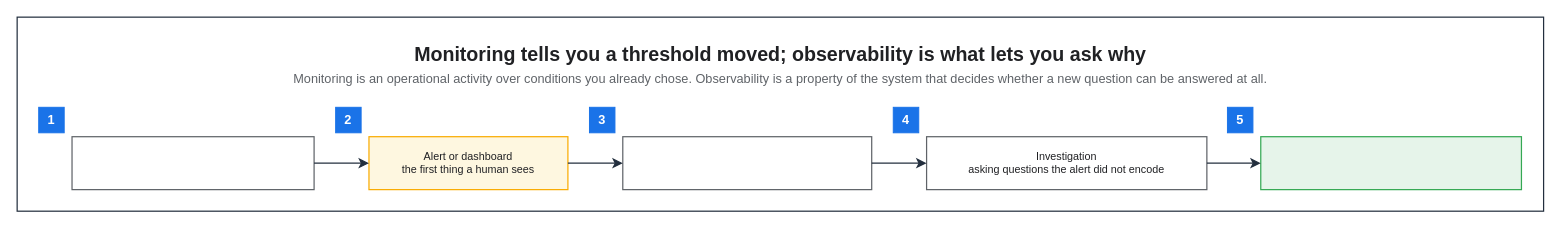
The diagram is 1561 pixels wide and 229 high, and some of its shapes have lost their labels. The box of each missing label's shape, as (x1, y1, x2, y2) in pixels:
Logs, metrics, traces the three signals available to query: (622, 136, 872, 190)
Mitigation and prevention a new signal usually comes out of this: (1260, 136, 1522, 190)
Monitoring signal a known metric crossing a threshold: (71, 136, 314, 190)
